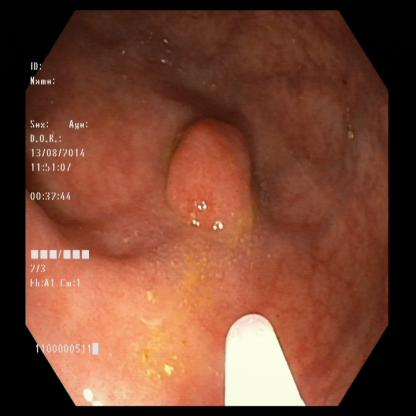Labels: (27, 57, 110, 358)
Polyps: (166, 108, 263, 244)
